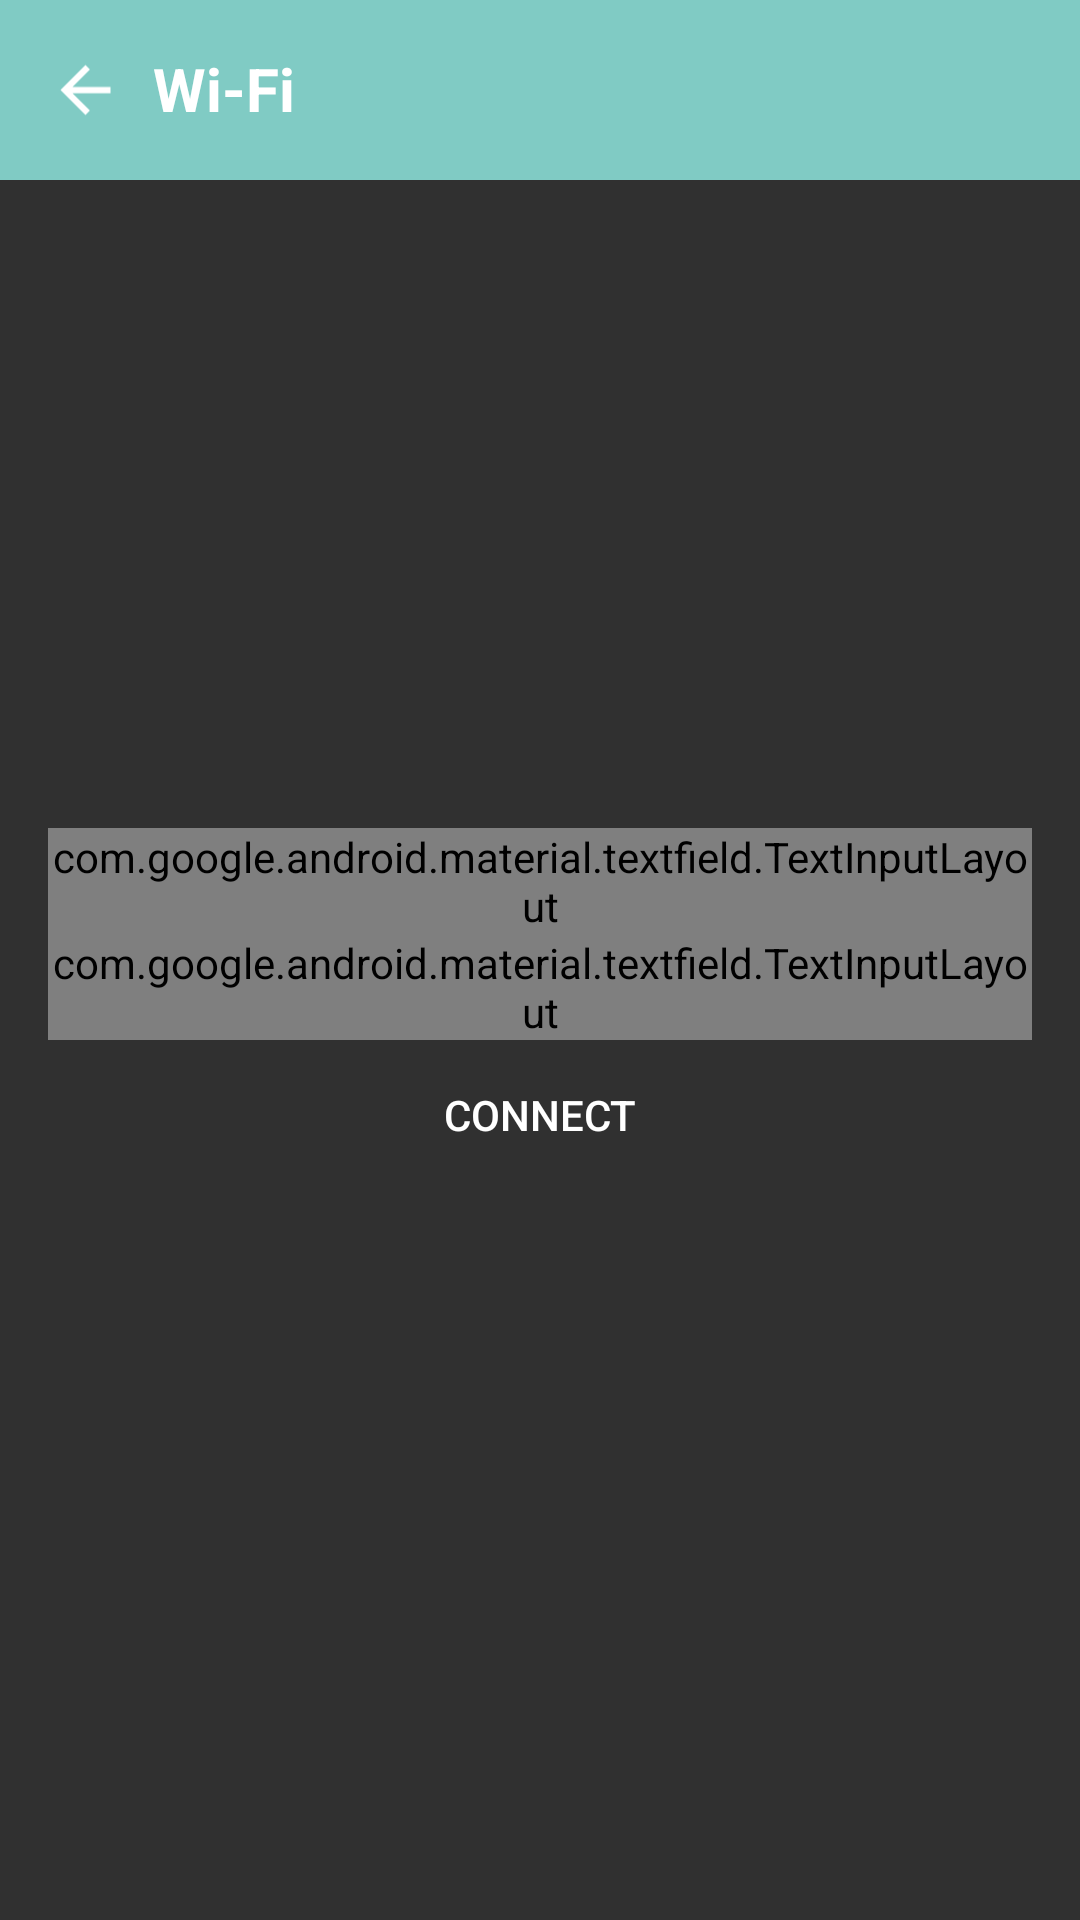

Screen size 1080 × 1920. Icon name, then its box in pixels as BBox(x1, y1, x2, y2):
arrow back: BBox(61, 65, 111, 115)
